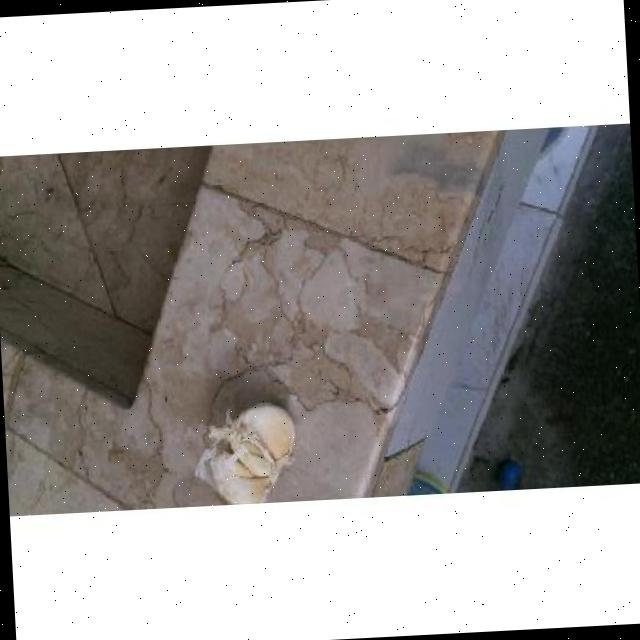garlic: (195, 403, 295, 502)
